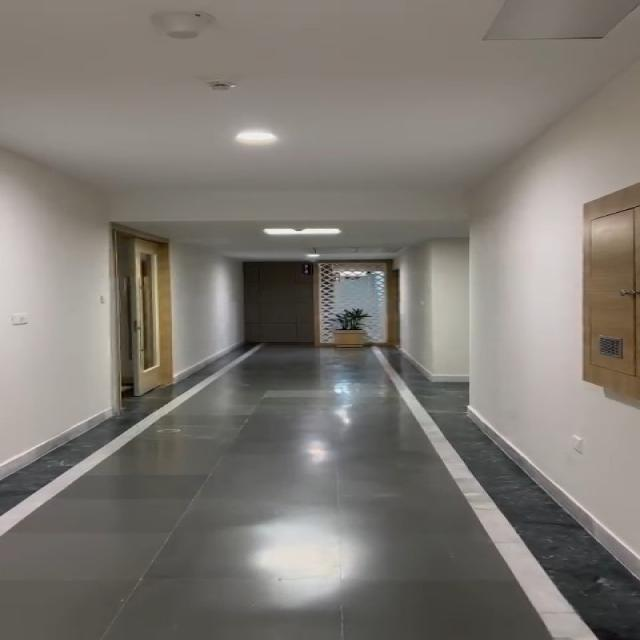door: (102, 228, 172, 407)
floor: (0, 427, 587, 640), (208, 343, 424, 427)
furniture: (331, 301, 381, 351)
wall: (411, 166, 586, 430), (0, 149, 112, 416), (168, 248, 251, 350)
